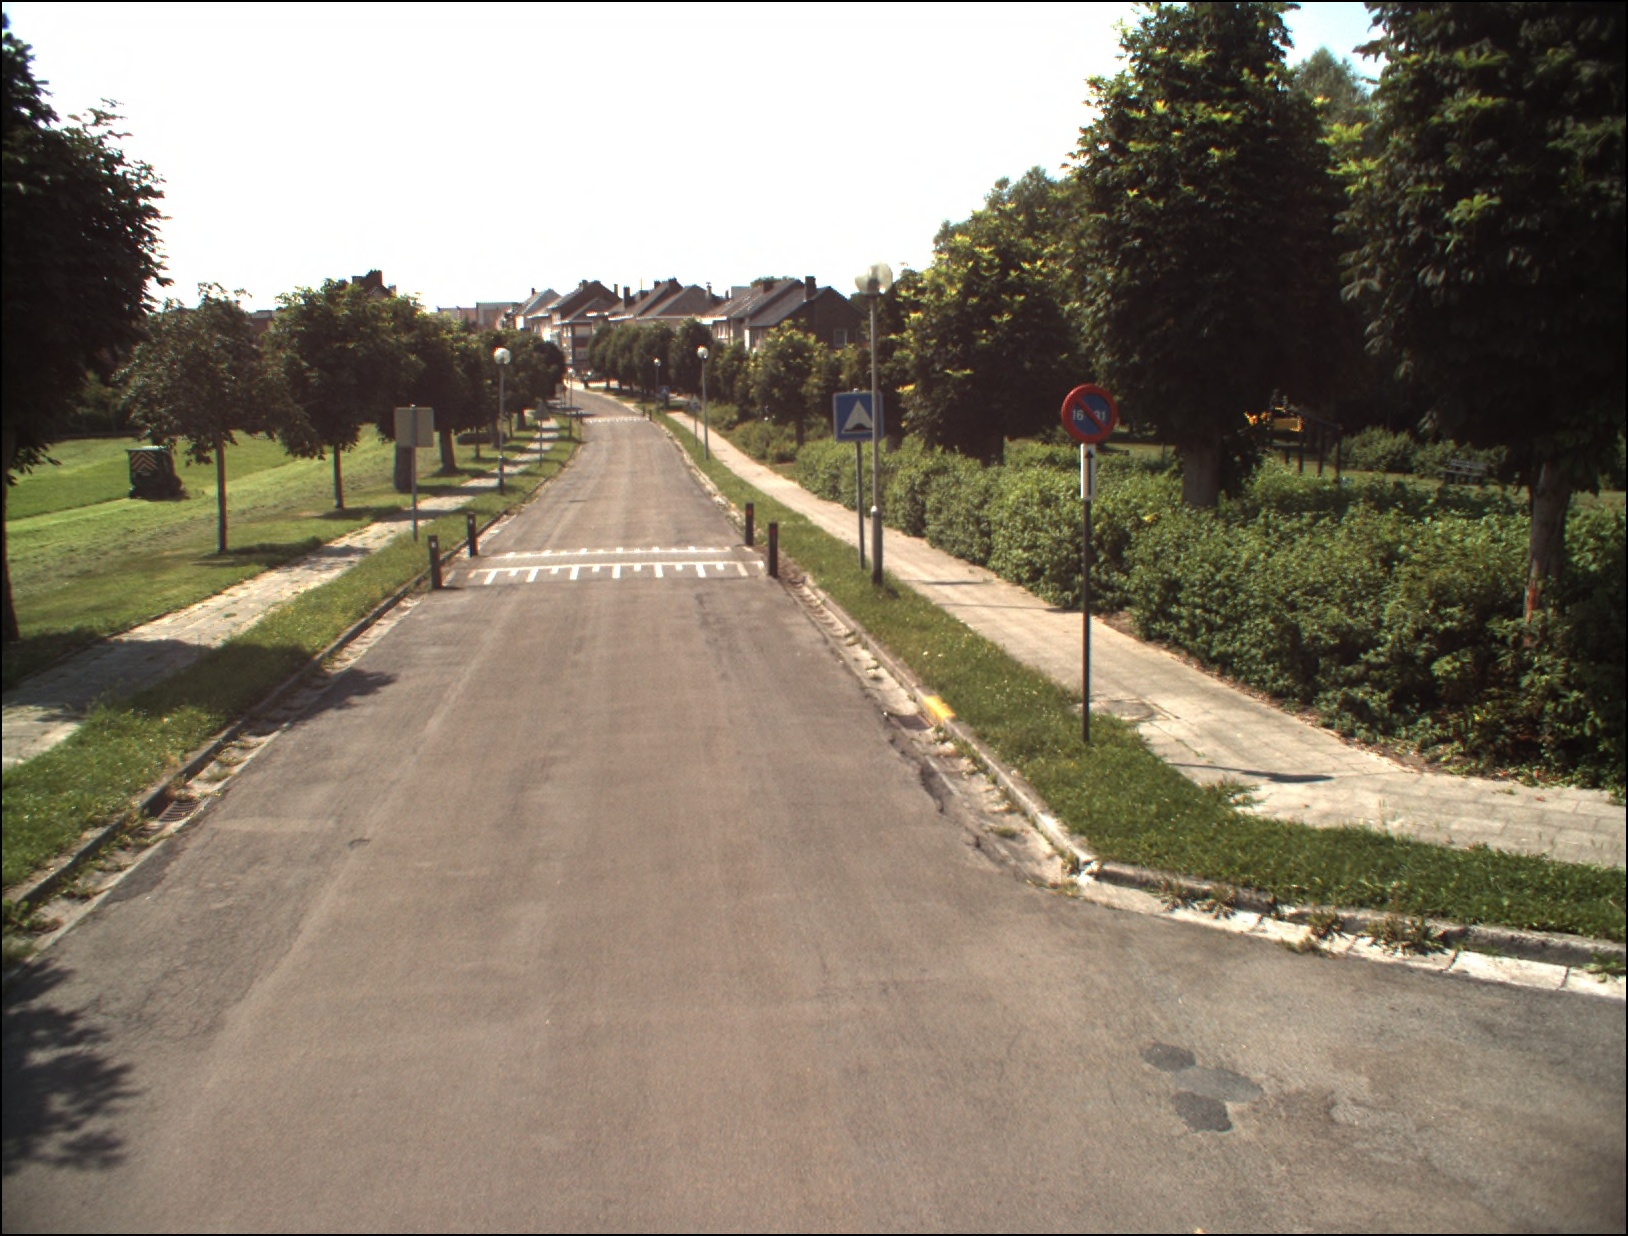speedbump: (832, 392, 884, 443)
